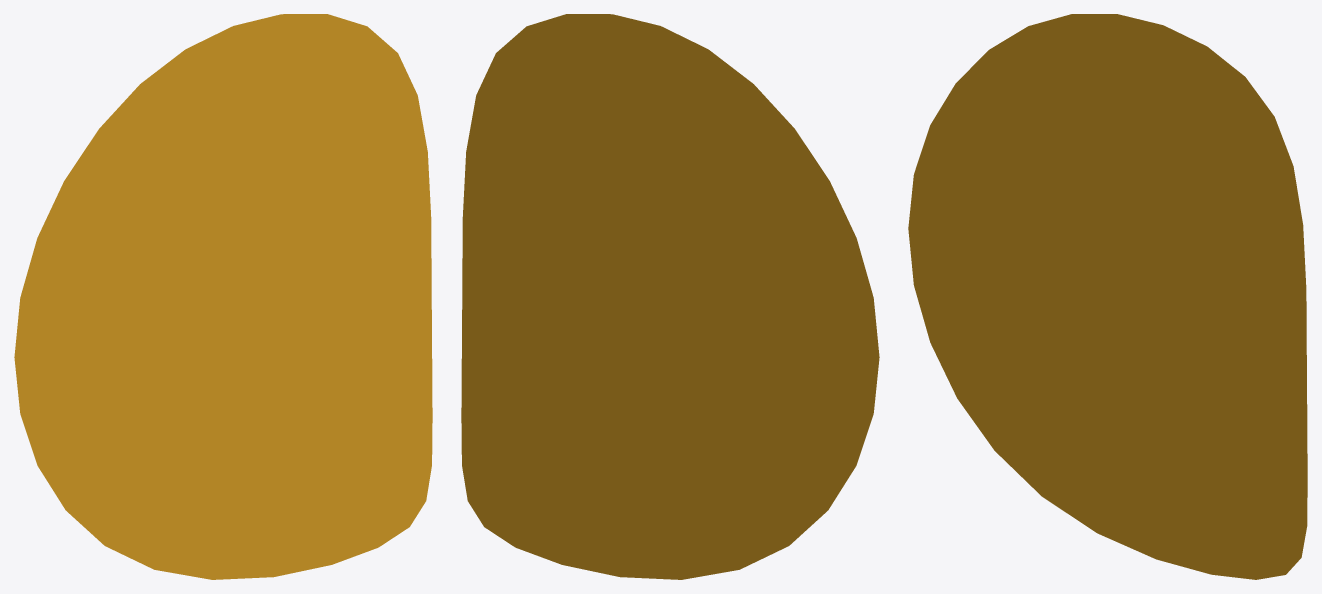
Rendered from Chicken.FBX.
The picture shows the model from 3 angles, left to right: view 1: azimuth 30°, elevation 25°; view 2: azimuth 150°, elevation 25°; view 3: azimuth 330°, elevation 25°; orthographic projection. The views are drawn at different scales.
Parts seen in each view (by area): view 1: Chicken; view 2: Chicken; view 3: Chicken.
Boxes of the visible parts, x1=… form: Chicken: x1=14, y1=14, x2=432, y2=579; Chicken: x1=461, y1=14, x2=879, y2=579; Chicken: x1=908, y1=14, x2=1307, y2=579.
Size of the model in its own units: 30.81 by 39.65 by 6.38e-06.
